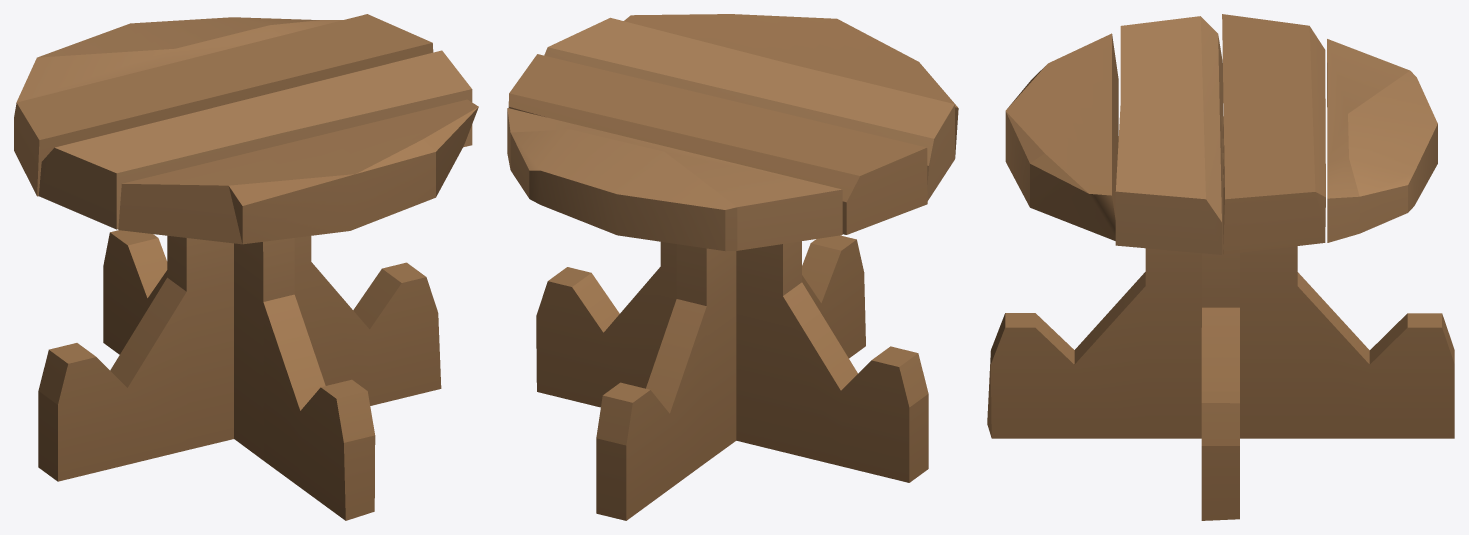
Rendered from Stool_C.fbx.
3 views of the same model, side by side, from view 1: azimuth 30°, elevation 25°; view 2: azimuth 150°, elevation 25°; view 3: azimuth 270°, elevation 25° (orthographic). The views are drawn at different scales.
Visible parts, largest first — view 1: Stool_C; view 2: Stool_C; view 3: Stool_C.
Boxes of the visible parts, x1,y1,x2,y2 form: Stool_C: (14, 14, 478, 520); Stool_C: (507, 14, 958, 520); Stool_C: (987, 14, 1454, 520).
Bounding box in the file's own units: 67.37 × 54.28 × 71.13.
